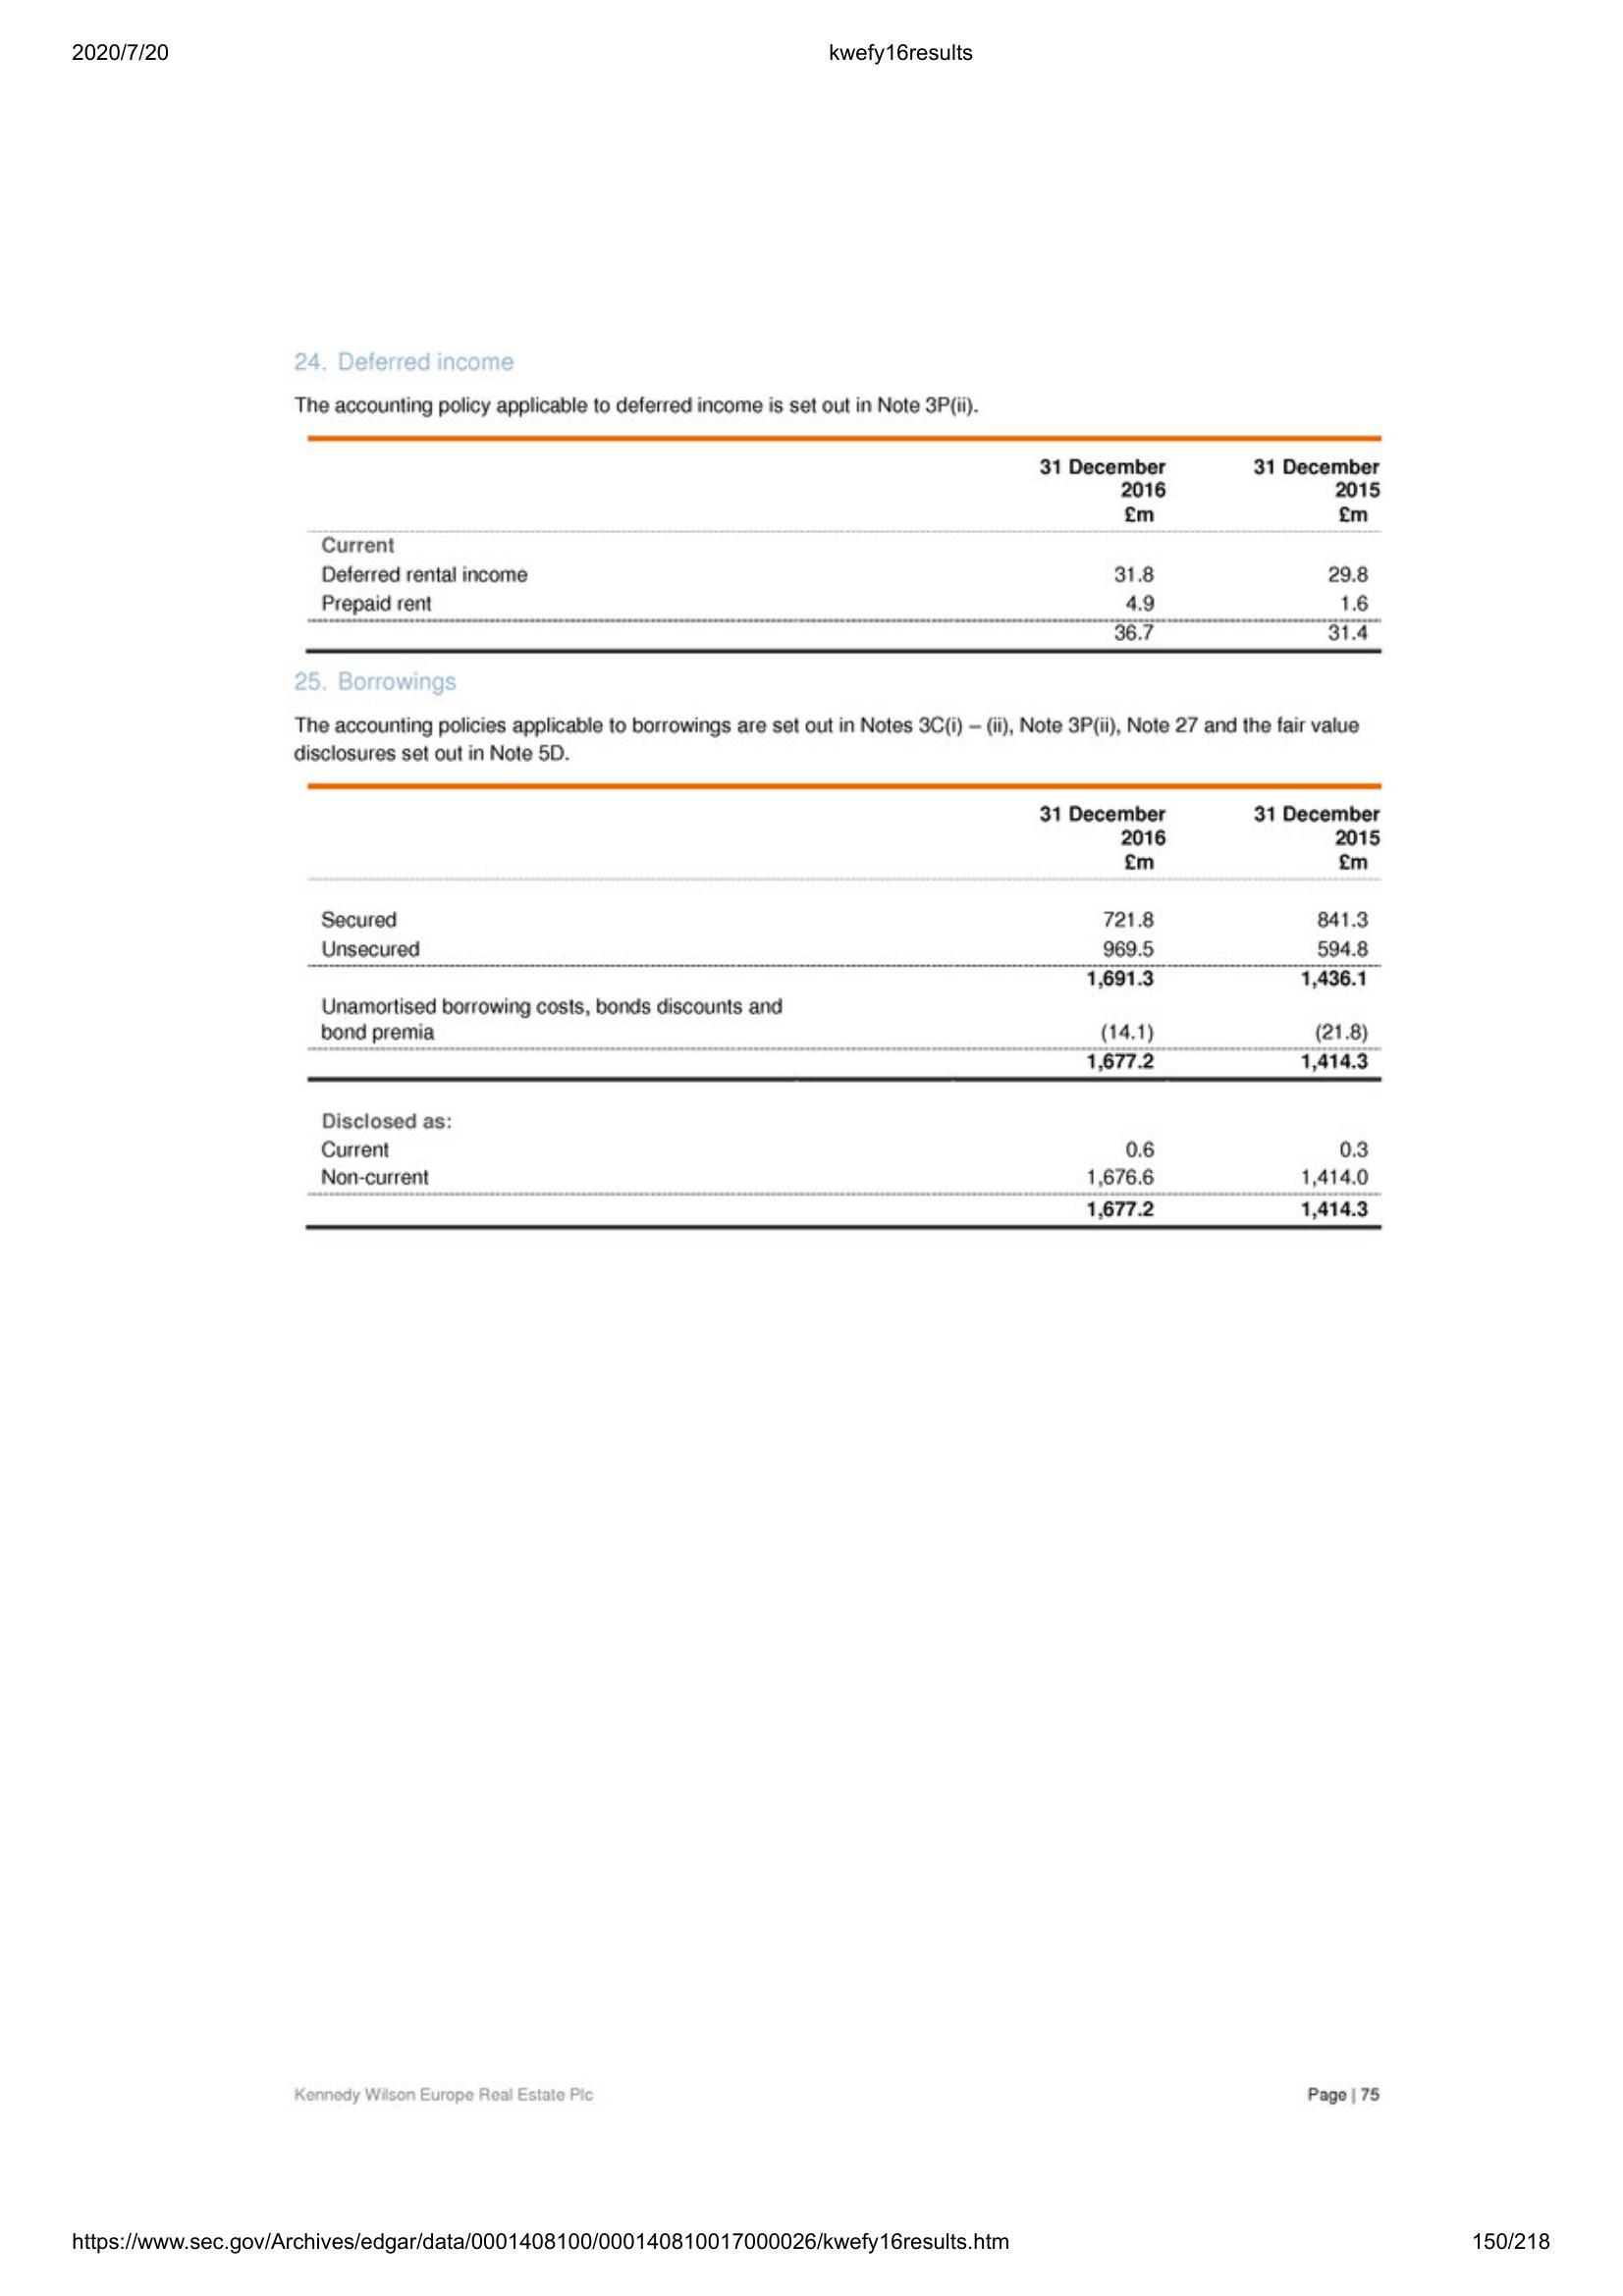table: (295, 776, 1395, 1238), (292, 425, 1388, 658)
